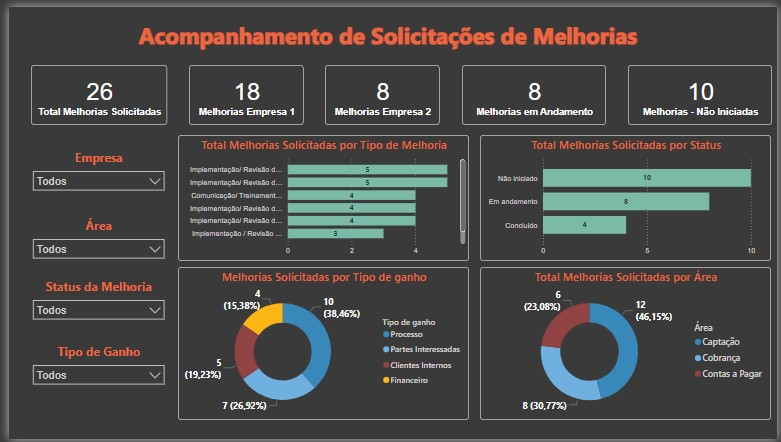

The page's visual inventory and layout, read from the dashboard file:
{"tool":"powerbi","page":{"name":"Visão Solicitação de Melhoria","canvas":[1280,720],"ordinal":0},"visuals":[{"type":"card","fields":{"Values":["Backlog.Total Melhorias Solicitadas"]},"box":[36.2,96,226.9,100.3],"z":0},{"type":"slicer","title":"Empresa","fields":{"Values":["Backlog.Empresa"]},"box":[29.7,235.8,239,95.3],"z":1000},{"type":"slicer","title":"Área","fields":{"Values":["Backlog.Área"]},"box":[29.7,350.4,239,82.8],"z":2000},{"type":"slicer","title":"Tipo de Ganho","fields":{"Values":["Backlog.Tipo de ganho","Backlog.Tipo de ganho 2"]},"box":[29.7,560.7,239,87.5],"z":3000},{"type":"slicer","title":"Status da Melhoria","fields":{"Values":["Backlog.Status"]},"box":[29.7,452.4,239,89],"z":4000},{"type":"card","fields":{"Values":["Backlog.Melhorias em Andamento"]},"box":[755.1,96.2,240,100],"z":5000},{"type":"barChart","fields":{"Category":["Backlog.Status"],"Y":["Backlog.Total Melhorias Solicitadas"]},"box":[784.6,213.8,485,210],"z":7000},{"type":"textbox","box":[0,16.4,1263,62.5],"z":8000},{"type":"card","fields":{"Values":["Backlog.Melhorias - Não Iniciadas"]},"box":[1031.9,96.2,240.1,100],"z":9000},{"type":"donutChart","title":"Melhorias Solicitadas por Tipo de ganho","fields":{"Y":["Backlog.Total Melhorias Solicitadas"],"Category":["Backlog.Tipo de ganho"]},"box":[281.4,434.2,485,255],"z":10000},{"type":"donutChart","fields":{"Category":["Backlog.Área"],"Y":["Backlog.Total Melhorias Solicitadas"]},"box":[784.6,434.2,485,254.9],"z":11000},{"type":"card","fields":{"Values":["Backlog.Melhorias Empresa 1"]},"box":[299.9,96.2,190.8,100],"z":12000},{"type":"card","fields":{"Values":["Backlog.Melhorias Empresa 2"]},"box":[527.5,96.2,190.8,100],"z":13000},{"type":"barChart","fields":{"Category":["Backlog.Tipo de Melhoria"],"Y":["Backlog.Total Melhorias Solicitadas"]},"box":[282,214,484.7,209.8],"z":14000}]}

Visuals, with their boxes in screenshot pixels (x1, y1, x2, y2), scaled from the page's 1280x720 canvas onto the 781x442 screenshot:
card - Backlog.Total Melhorias Solicitadas: [x1=22, y1=59, x2=161, y2=121]
"Empresa" slicer: [x1=18, y1=145, x2=164, y2=203]
"Área" slicer: [x1=18, y1=215, x2=164, y2=266]
"Tipo de Ganho" slicer: [x1=18, y1=344, x2=164, y2=398]
"Status da Melhoria" slicer: [x1=18, y1=278, x2=164, y2=332]
card - Backlog.Melhorias em Andamento: [x1=461, y1=59, x2=607, y2=120]
barChart - Backlog.Status x Backlog.Total Melhorias Solicitadas: [x1=479, y1=131, x2=775, y2=260]
textbox: [x1=0, y1=10, x2=771, y2=48]
card - Backlog.Melhorias - Não Iniciadas: [x1=630, y1=59, x2=776, y2=120]
"Melhorias Solicitadas por Tipo de ganho" donutChart: [x1=172, y1=267, x2=468, y2=423]
donutChart - Backlog.Área x Backlog.Total Melhorias Solicitadas: [x1=479, y1=267, x2=775, y2=423]
card - Backlog.Melhorias Empresa 1: [x1=183, y1=59, x2=299, y2=120]
card - Backlog.Melhorias Empresa 2: [x1=322, y1=59, x2=438, y2=120]
barChart - Backlog.Tipo de Melhoria x Backlog.Total Melhorias Solicitadas: [x1=172, y1=131, x2=468, y2=260]
